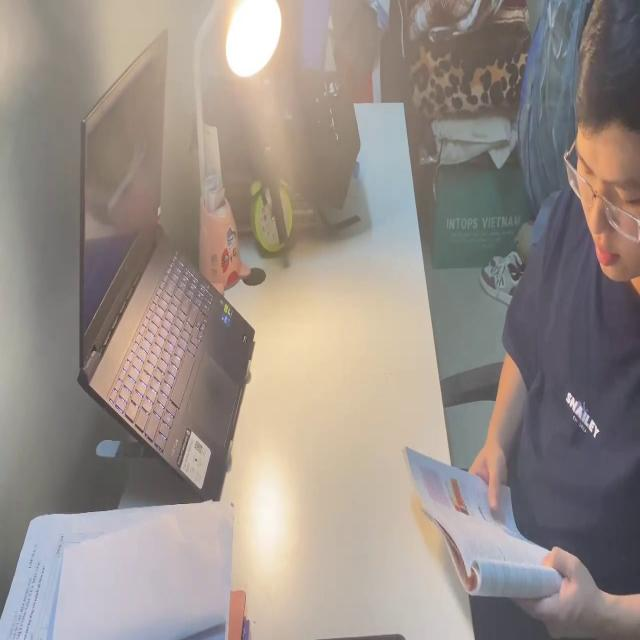book: (6, 499, 246, 640), (403, 434, 572, 617)
laptop: (72, 20, 255, 507)
student: (461, 2, 640, 640)
